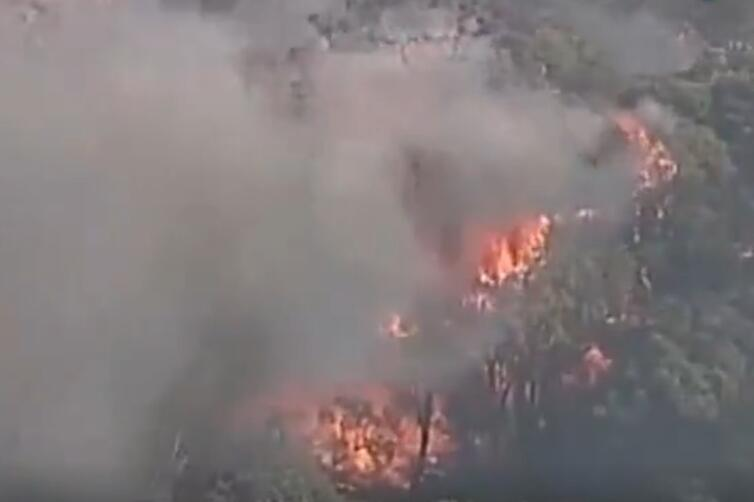fire: (311, 387, 457, 491), (464, 211, 565, 310), (606, 107, 688, 207)
yanwu: (0, 3, 638, 475)
